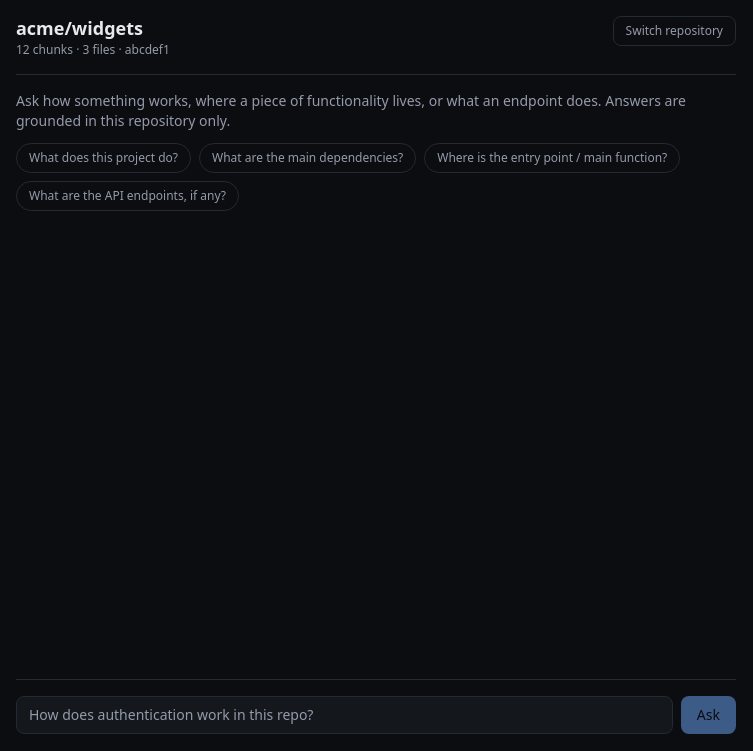
ChatPanel › accessibility › announces answers through one transcript live region, not one per message
In the field named "Question": [344, 715] box [16, 696, 673, 734], type "how?"
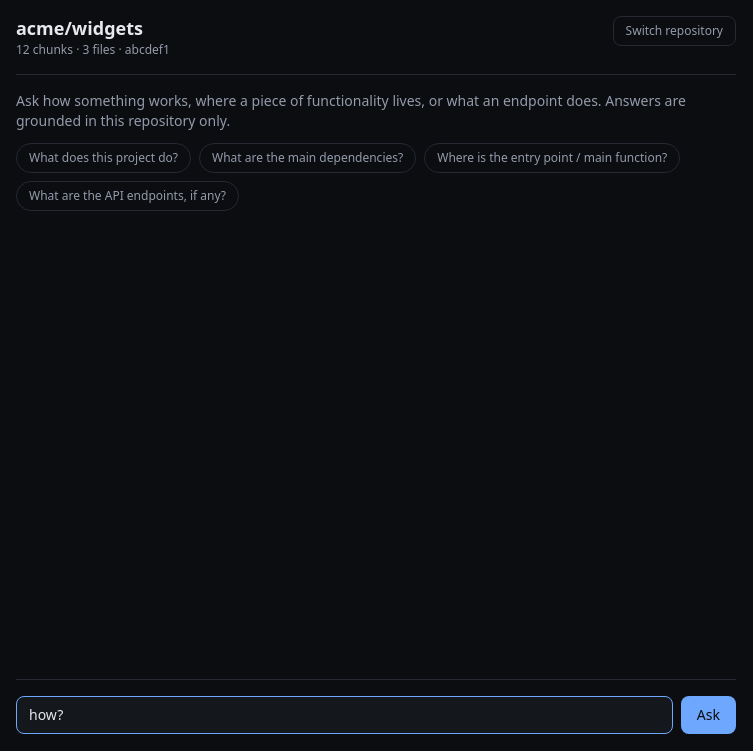
Click the button "Ask": [708, 715] box [681, 696, 736, 734]
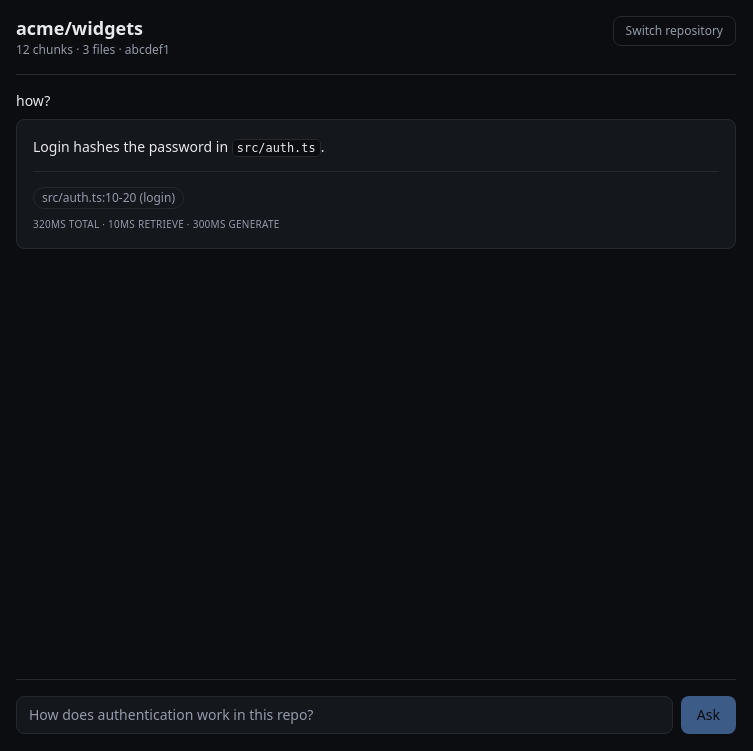
expect the text "Login hashes the password in src/auth.ts." is shown: met, box [33, 137, 324, 157]
